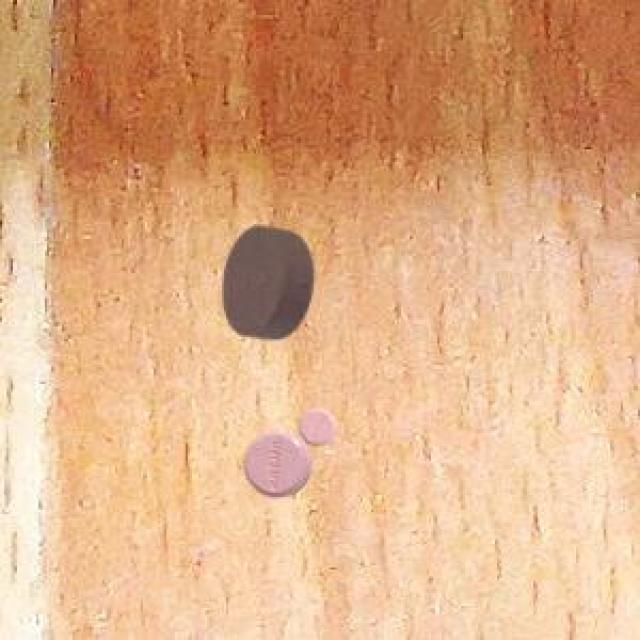Kremil_S: (210, 215, 320, 354), (224, 405, 358, 504)
